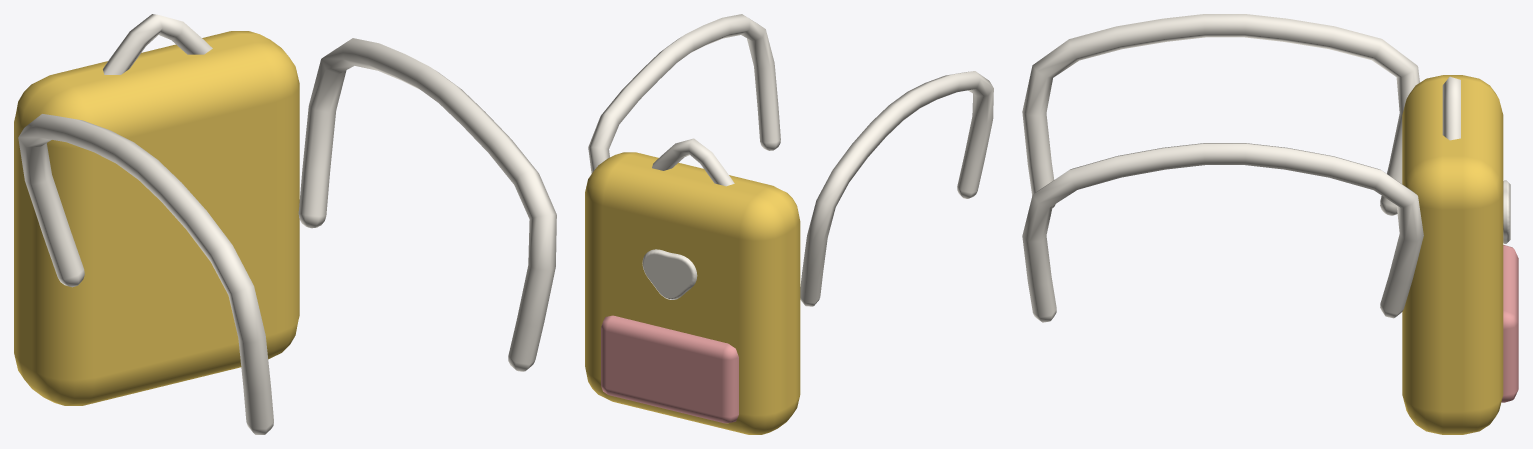
Rendered from bunny_day_bag.glb.
3 renders of one model, left to right at view 1: azimuth 30°, elevation 25°; view 2: azimuth 150°, elevation 25°; view 3: azimuth 270°, elevation 25°, orthographic. The views are drawn at different scales.
Parts seen in each view (by area): view 1: bunny_day_bag_Body; view 2: bunny_day_bag_Body; view 3: bunny_day_bag_Body.
Part boxes in pixels (<box>): bunny_day_bag_Body: <box>14,14,556,434</box>; bunny_day_bag_Body: <box>585,14,993,434</box>; bunny_day_bag_Body: <box>1022,14,1518,434</box>.
Bounding box in the file's own units: 0.327 × 0.3445 × 0.4902.
